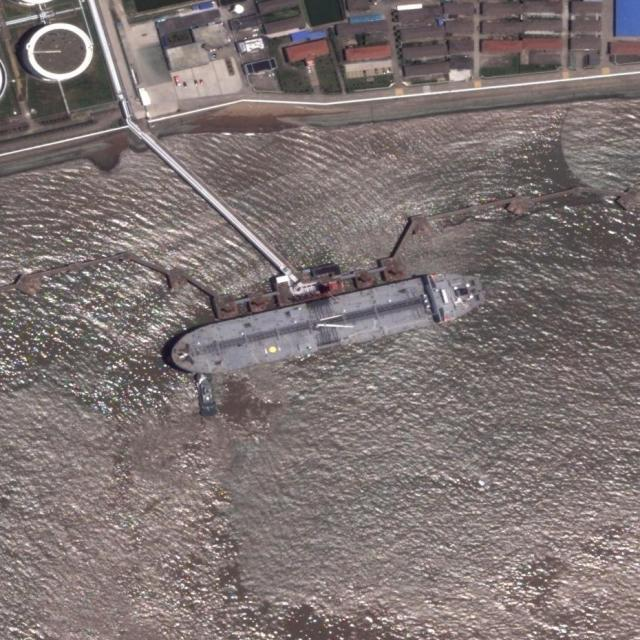Oil Tanker: (167, 264, 489, 382)
Other Ship: (195, 372, 215, 417)
